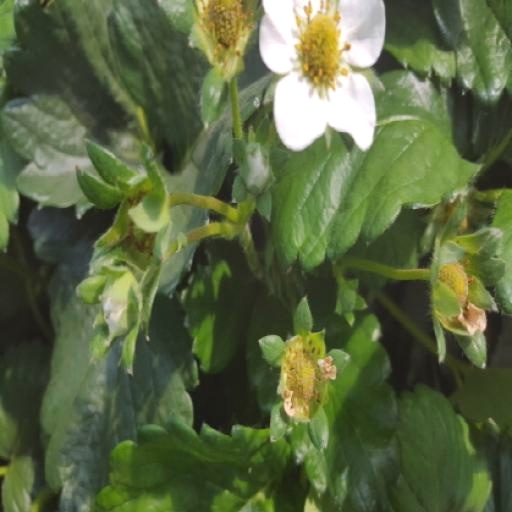Blossom Blight: (276, 337, 340, 424)
